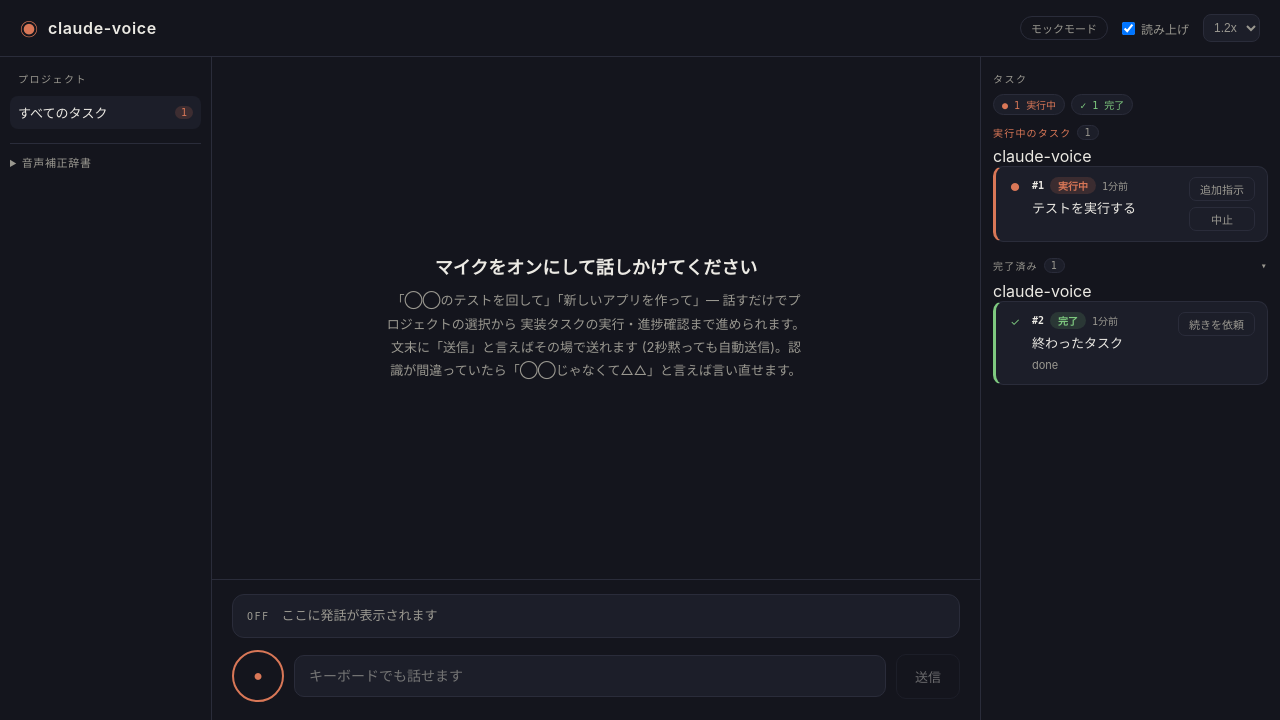
Test case: App append instruction UI › opens an inline input and posts the follow-up to the instructions API
Expected: the text "テストを実行する" is shown, [1032,198,1136,218]
Click the button "追加指示".
click(1222, 189)  # box [1189,177,1255,201]
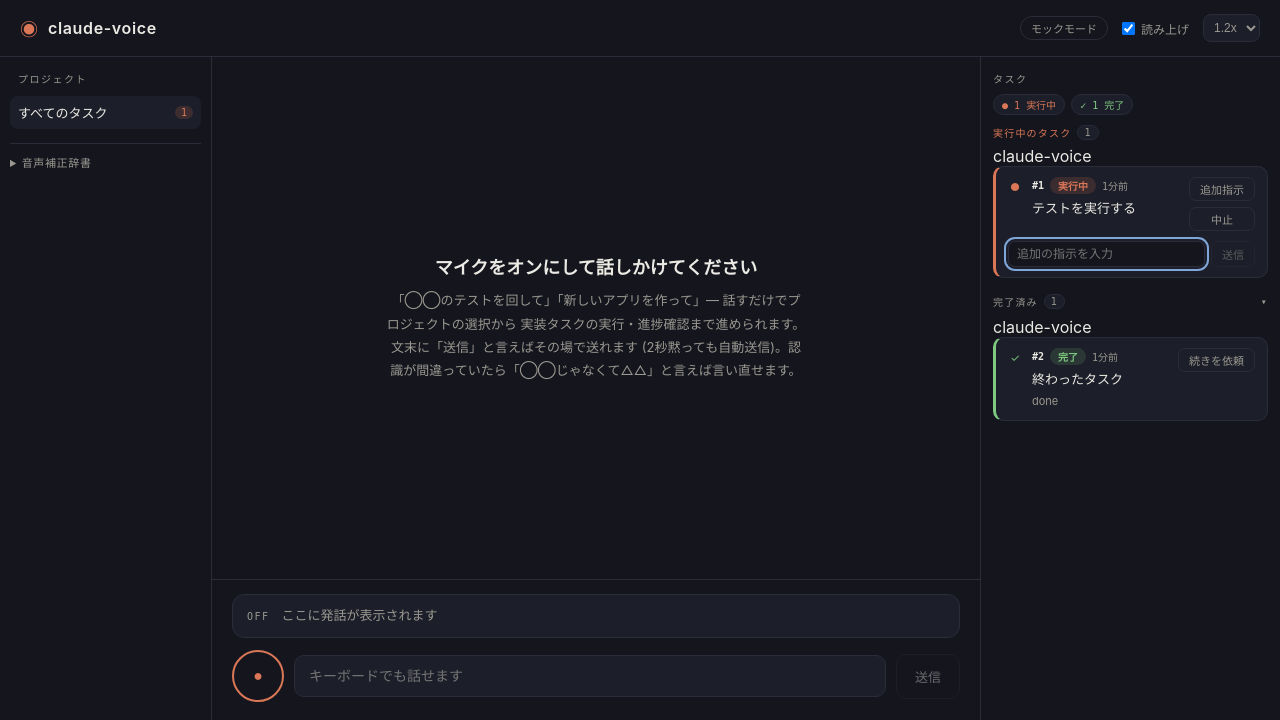
Type "READMEも更新して" into the field with placeholder "追加の指示を入力".
click(1106, 254); type("READMEも更新して")  # box [1008,241,1205,267]
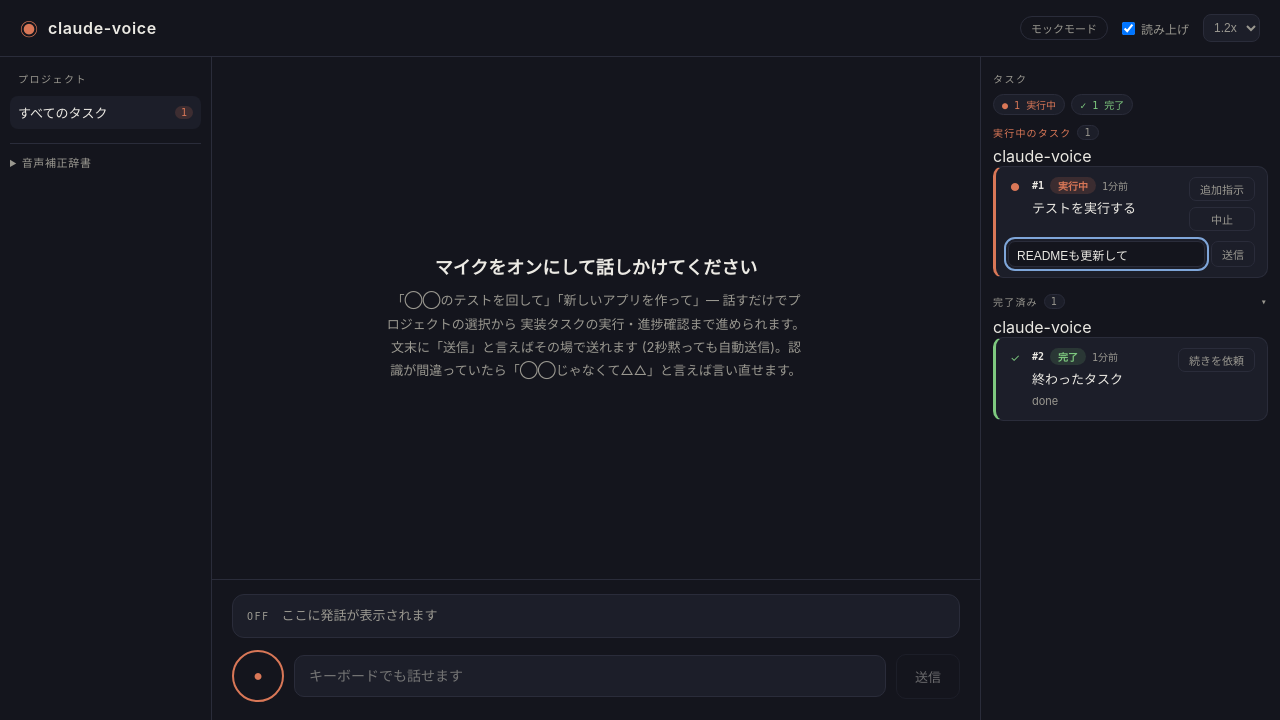
Click the button with aria-label "追加指示を送信".
click(1233, 254)  # box [1211,241,1255,267]
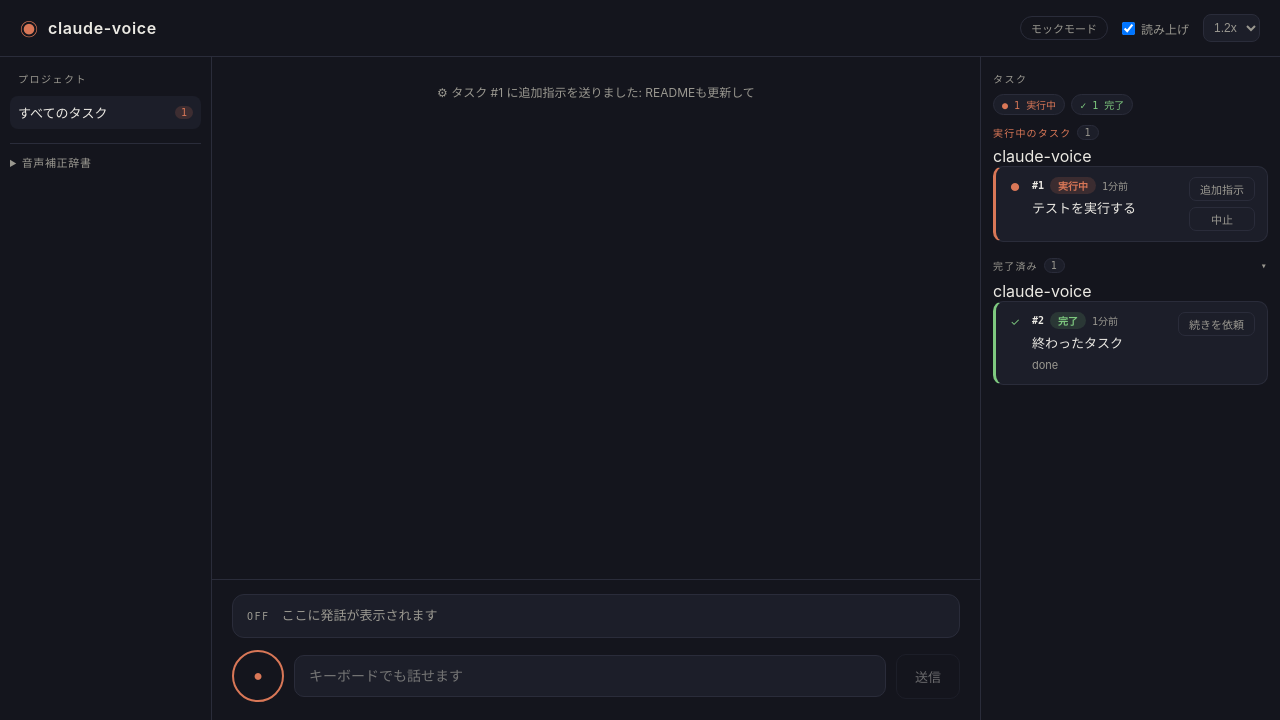
Now the text "⚙ タスク #1 に追加指示を送りました: READMEも更新して" is shown, box [437,83,755,103]
Now the field with placeholder "追加の指示を入力" is gone
